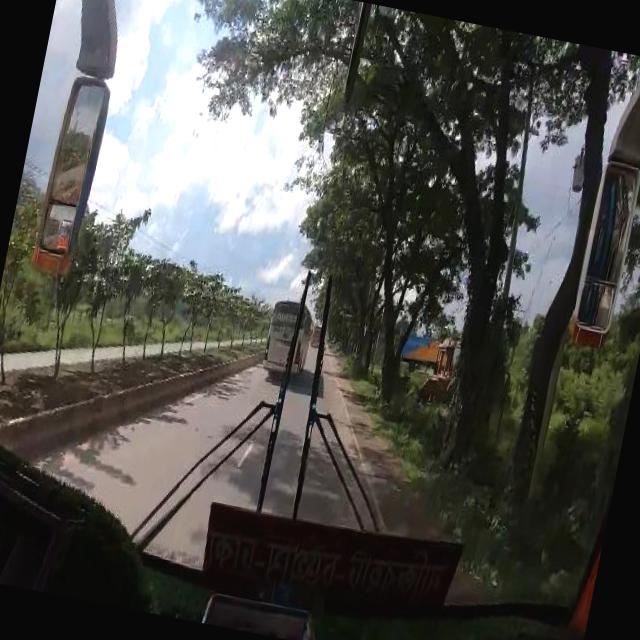bus: (264, 298, 317, 374)
truck: (399, 330, 447, 370)
